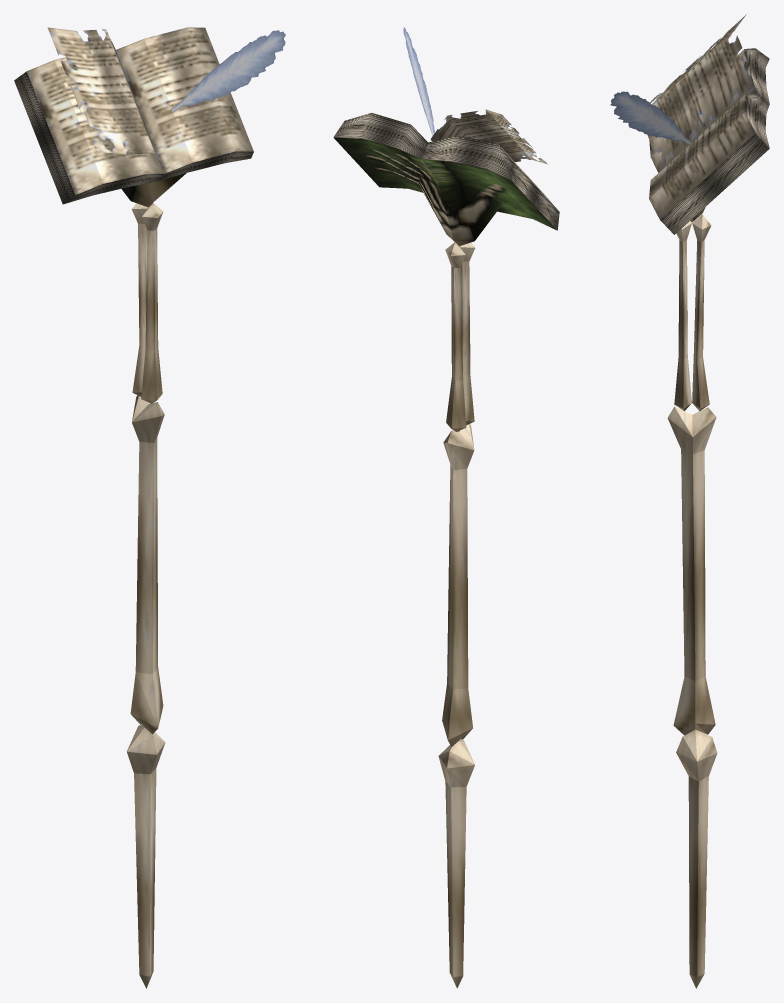
File: wavemaster06.obj
3 views of the same model, side by side, from view 1: azimuth 30°, elevation 25°; view 2: azimuth 150°, elevation 25°; view 3: azimuth 270°, elevation 25° (orthographic). The views are drawn at different scales.
Visible parts, largest first — view 1: wavemaster06; view 2: wavemaster06; view 3: wavemaster06.
Part boxes in pixels (<box>): wavemaster06: <box>14,27,285,988</box>; wavemaster06: <box>333,27,559,988</box>; wavemaster06: <box>610,14,769,988</box>.
Size of the model in its own units: 0.3313 by 1.56 by 0.2688.
